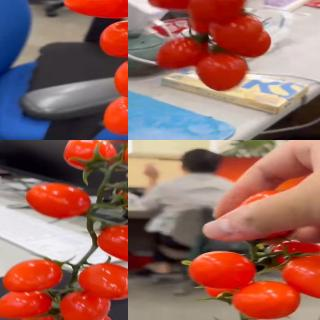tomato: (231, 280, 303, 320), (188, 252, 258, 291), (25, 182, 92, 220), (210, 12, 265, 55), (194, 50, 249, 92), (2, 258, 64, 292), (62, 140, 123, 173), (76, 261, 128, 299), (155, 36, 212, 69), (280, 256, 320, 301), (0, 289, 53, 320), (267, 239, 320, 269), (61, 289, 111, 320), (184, 0, 248, 22), (96, 223, 128, 263), (60, 0, 128, 18), (98, 21, 128, 60), (101, 96, 128, 136), (146, 0, 195, 12), (115, 55, 128, 99), (113, 176, 128, 212)
